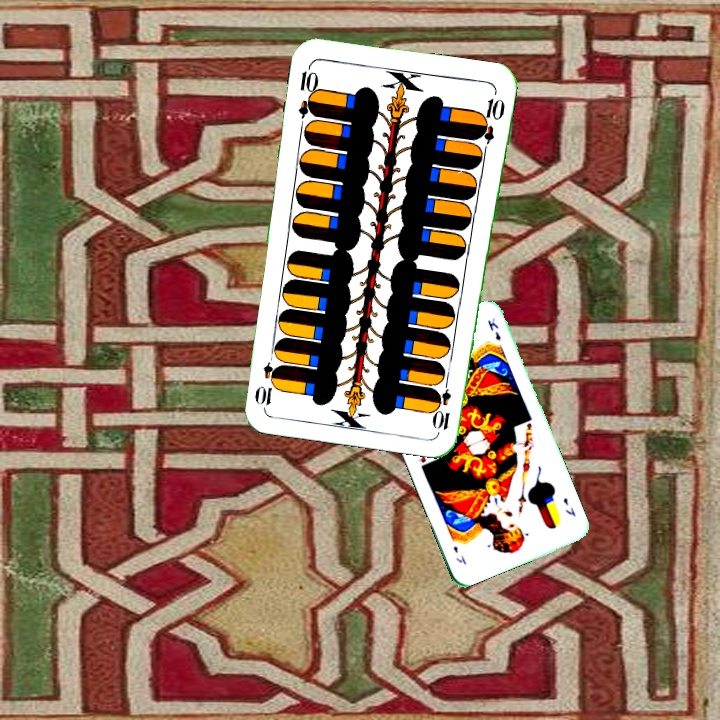E10: (294, 60, 322, 120), (433, 373, 454, 433)
EK: (559, 494, 579, 520)
